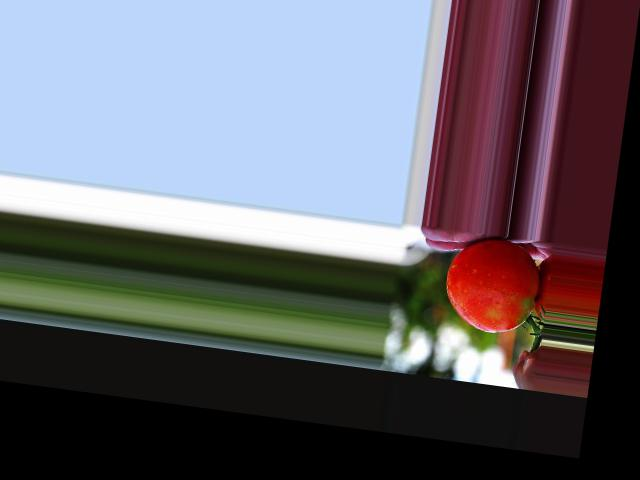tomato: (440, 233, 543, 337)
